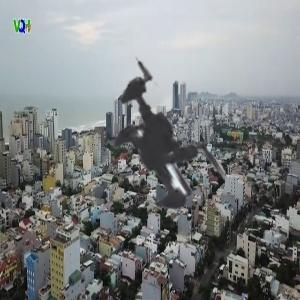drone: (17, 20, 284, 287)
